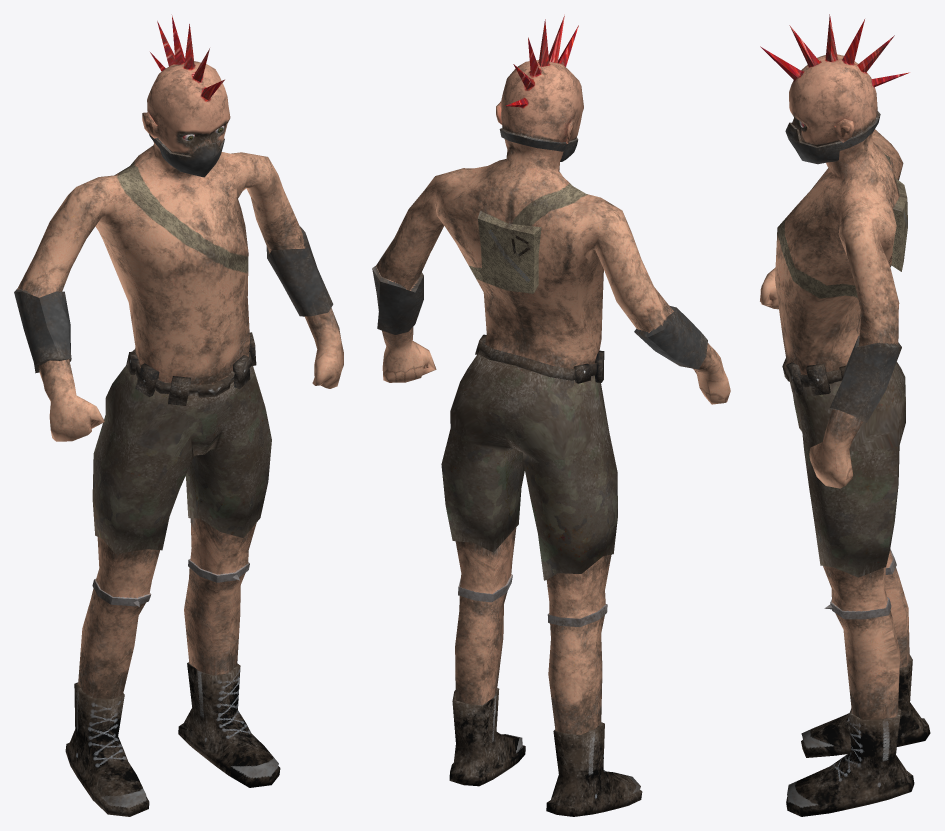
File: Anim_cogerobjeto_npc2.0038.obj
3 renders of one model, left to right at view 1: azimuth 30°, elevation 25°; view 2: azimuth 150°, elevation 25°; view 3: azimuth 270°, elevation 25°, orthographic.
Visible parts, largest first — view 1: polySurface1; view 2: polySurface1; view 3: polySurface1.
Boxes of the visible parts, x1=… form: polySurface1: x1=14, y1=14, x2=343, y2=816; polySurface1: x1=372, y1=14, x2=730, y2=816; polySurface1: x1=760, y1=14, x2=930, y2=816.
Bounding box in the file's own units: 4.52 × 10.32 × 2.07.
